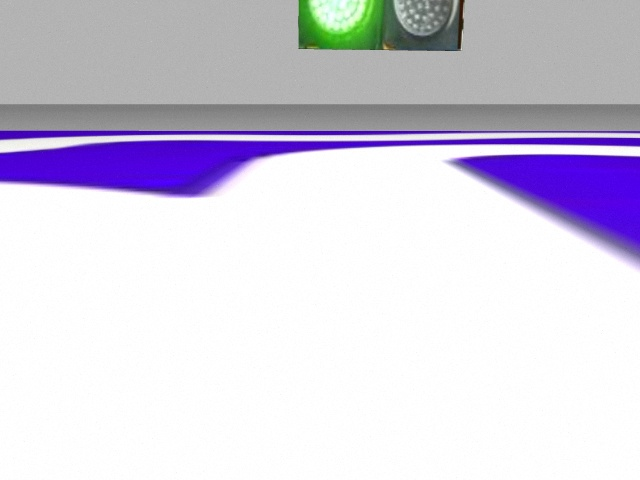green: (298, 1, 385, 49)
